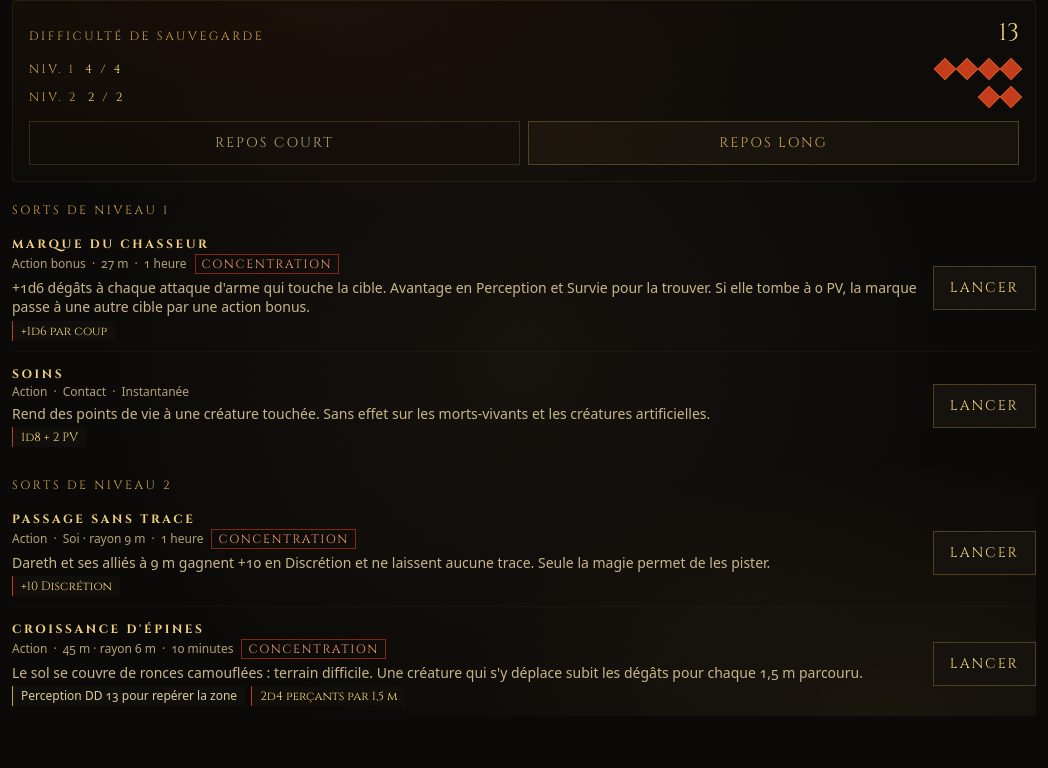
Test case: CodexSpells › Lancer un sort consomme un emplacement
Click the button "Lancer" in the row of "27 m" at coordinates (984, 288), box [933,266,1036,310]
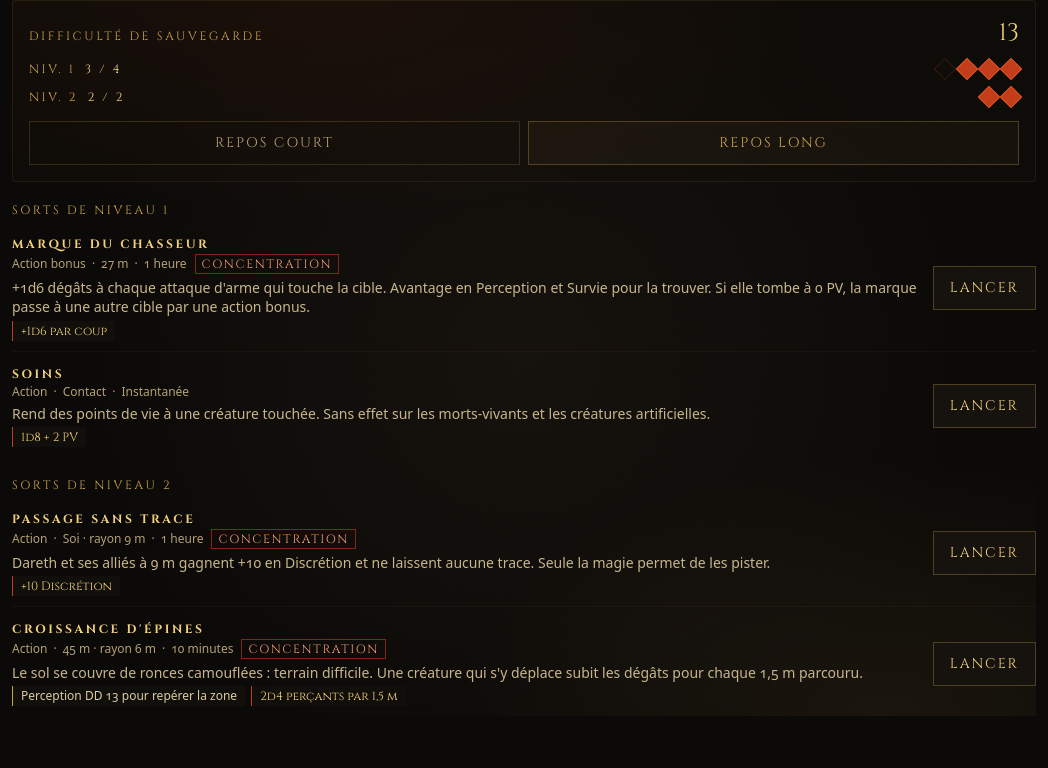
expect the text "3 / 4" is shown: met, box [85,61,122,77]
